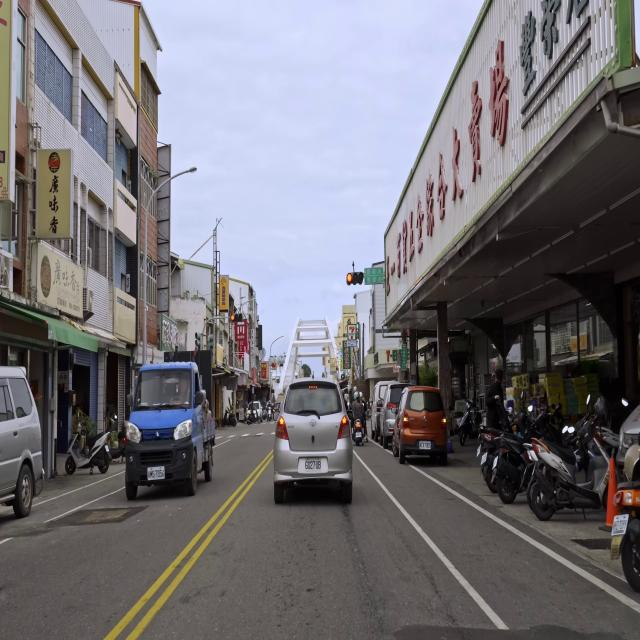red light: (346, 272, 364, 284), (230, 313, 242, 322)
